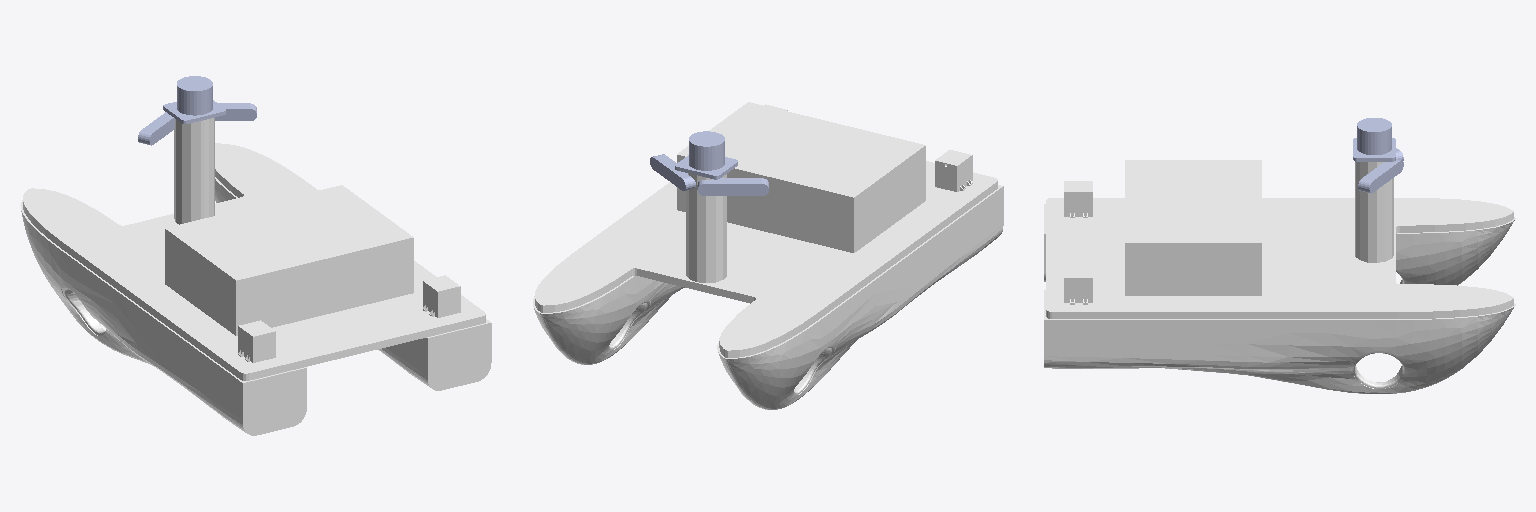
URDF robot description (blacksail_description):
<?xml version="1.0" encoding="utf-8"?>
<!-- This URDF was automatically created by SolidWorks to URDF Exporter! Originally created by [author] ([email redacted]) 
     Commit Version: 1.6.0-1-g15f4949  Build Version: 1.6.7594.29634
     For more information, please see http://wiki.ros.org/sw_urdf_exporter -->
<robot
  name="blacksail_description">
  <link
    name="base_link">
    <inertial>
      <origin
        xyz="2.8139755276237E-08 0.144789959188267 -0.0127097258478716"
        rpy="0 0 0" />
      <mass
        value="50.9279780998108" />
      <inertia
        ixx="2.7911751248795"
        ixy="5.19369002268616E-06"
        ixz="3.20055016815703E-05"
        iyy="3.53852818407439"
        iyz="0.0466571582315679"
        izz="0.989293022946694" />
    </inertial>
    <visual>
      <origin
        xyz="0 0 0"
        rpy="0 0 0" />
      <geometry>
        <mesh
          filename="package://blacksail_description/meshes/base_link.STL" />
      </geometry>
      <material
        name="">
        <color
          rgba="1 1 1 1" />
      </material>
    </visual>
    <collision>
      <origin
        xyz="0 0 0"
        rpy="0 0 0" />
      <geometry>
        <mesh
          filename="package://blacksail_description/meshes/base_link.STL" />
      </geometry>
    </collision>
  </link>
  <link
    name="left_cam">
    <inertial>
      <origin
        xyz="-5.55111512312578E-17 0.0165 -5.55111512312578E-17"
        rpy="0 0 0" />
      <mass
        value="0.182862853798014" />
      <inertia
        ixx="3.25492565937973E-05"
        ixy="-3.33730981218194E-19"
        ixz="-4.78920682195611E-21"
        iyy="0.000448067177719045"
        iyz="7.23086566158669E-22"
        izz="0.000448707529089587" />
    </inertial>
    <visual>
      <origin
        xyz="0 0 0"
        rpy="0 0 0" />
      <geometry>
        <mesh
          filename="package://blacksail_description/meshes/left_cam.STL" />
      </geometry>
      <material
        name="">
        <color
          rgba="0.792156862745098 0.819607843137255 0.933333333333333 1" />
      </material>
    </visual>
    <collision>
      <origin
        xyz="0 0 0"
        rpy="0 0 0" />
      <geometry>
        <mesh
          filename="package://blacksail_description/meshes/left_cam.STL" />
      </geometry>
    </collision>
  </link>
  <joint
    name="hull_left_cam"
    type="revolute">
    <origin
      xyz="-0.0757772228311384 0.392999999994536 0.398600696990968"
      rpy="-3.14159265358979 0 -2.61799387799149" />
    <parent
      link="base_link" />
    <child
      link="left_cam" />
    <axis
      xyz="0 1 0" />
    <limit
      lower="-1.57"
      upper="1.57"
      effort="0"
      velocity="0" />
  </joint>
  <link
    name="right_cam">
    <inertial>
      <origin
        xyz="5.55111512312578E-17 0.0164999999999999 0"
        rpy="0 0 0" />
      <mass
        value="0.182862853798014" />
      <inertia
        ixx="3.25492565937971E-05"
        ixy="1.64324391767334E-19"
        ixz="3.65330026310157E-21"
        iyy="0.000448067177719044"
        iyz="-1.51134911612092E-21"
        izz="0.000448707529089586" />
    </inertial>
    <visual>
      <origin
        xyz="0 0 0"
        rpy="0 0 0" />
      <geometry>
        <mesh
          filename="package://blacksail_description/meshes/right_cam.STL" />
      </geometry>
      <material
        name="">
        <color
          rgba="0.792156862745098 0.819607843137255 0.933333333333333 1" />
      </material>
    </visual>
    <collision>
      <origin
        xyz="0 0 0"
        rpy="0 0 0" />
      <geometry>
        <mesh
          filename="package://blacksail_description/meshes/right_cam.STL" />
      </geometry>
    </collision>
  </link>
  <joint
    name="hull_right_cam"
    type="fixed">
    <origin
      xyz="0.0757772228311382 0.392999999994536 0.398600696990968"
      rpy="0 0 -0.5235987755983" />
    <parent
      link="base_link" />
    <child
      link="right_cam" />
    <axis
      xyz="0 0 0" />
  </joint>
  <link
    name="left_eng">
    <inertial>
      <origin
        xyz="-6.82063415196055E-05 0.000560330151309546 0.00397598353706508"
        rpy="0 0 0" />
      <mass
        value="0.19484238791606" />
      <inertia
        ixx="0.00013116757946852"
        ixy="8.25302298097931E-08"
        ixz="-1.49413806603009E-07"
        iyy="0.000127130799863772"
        iyz="-1.46121941515838E-07"
        izz="0.000181252770882204" />
    </inertial>
    <visual>
      <origin
        xyz="0 0 0"
        rpy="0 0 0" />
      <geometry>
        <mesh
          filename="package://blacksail_description/meshes/left_eng.STL" />
      </geometry>
      <material
        name="">
        <color
          rgba="0.792156862745098 0.819607843137255 0.933333333333333 1" />
      </material>
    </visual>
    <collision>
      <origin
        xyz="0 0 0"
        rpy="0 0 0" />
      <geometry>
        <mesh
          filename="package://blacksail_description/meshes/left_eng.STL" />
      </geometry>
    </collision>
  </link>
  <joint
    name="hull_left_eng"
    type="revolute">
    <origin
      xyz="-0.25827 -0.37496 -0.1222"
      rpy="1.5708 0 0.33498" />
    <parent
      link="base_link" />
    <child
      link="left_eng" />
    <axis
      xyz="0 1 0" />
    <limit
      lower="-1.57"
      upper="1.57"
      effort="0"
      velocity="0" />
  </joint>
  <link
    name="right_eng">
    <inertial>
      <origin
        xyz="-6.81701581830008E-05 0.00055997793931932 0.00397716963707073"
        rpy="0 0 0" />
      <mass
        value="0.194831379335681" />
      <inertia
        ixx="0.00013116295290192"
        ixy="8.27753416032872E-08"
        ixz="-1.49686506620084E-07"
        iyy="0.000127131091026345"
        iyz="-1.46963833733725E-07"
        izz="0.000181251334069354" />
    </inertial>
    <visual>
      <origin
        xyz="0 0 0"
        rpy="0 0 0" />
      <geometry>
        <mesh
          filename="package://blacksail_description/meshes/right_eng.STL" />
      </geometry>
      <material
        name="">
        <color
          rgba="0.792156862745098 0.819607843137255 0.933333333333333 1" />
      </material>
    </visual>
    <collision>
      <origin
        xyz="0 0 0"
        rpy="0 0 0" />
      <geometry>
        <mesh
          filename="package://blacksail_description/meshes/right_eng.STL" />
      </geometry>
    </collision>
  </link>
  <joint
    name="hull_right_eng"
    type="revolute">
    <origin
      xyz="0.25827 -0.37496 -0.1222"
      rpy="1.5708 0 -0.33498" />
    <parent
      link="base_link" />
    <child
      link="right_eng" />
    <axis
      xyz="0 1 0" />
    <limit
      lower="-1.57"
      upper="1.57"
      effort="0"
      velocity="0" />
  </joint>
  <link
    name="lidar">
    <inertial>
      <origin
        xyz="-5.54618992302504E-17 0.0332155209723482 5.55111512312578E-17"
        rpy="0 0 0" />
      <mass
        value="0.537435618051217" />
      <inertia
        ixx="0.000612329601452891"
        ixy="-9.21239595365334E-21"
        ixz="-1.24077091882954E-20"
        iyy="0.000696774634775495"
        iyz="-2.86720185824769E-22"
        izz="0.000652989597944181" />
    </inertial>
    <visual>
      <origin
        xyz="0 0 0"
        rpy="0 0 0" />
      <geometry>
        <mesh
          filename="package://blacksail_description/meshes/lidar.STL" />
      </geometry>
      <material
        name="">
        <color
          rgba="0.792156862745098 0.819607843137255 0.933333333333333 1" />
      </material>
    </visual>
    <collision>
      <origin
        xyz="0 0 0"
        rpy="0 0 0" />
      <geometry>
        <mesh
          filename="package://blacksail_description/meshes/lidar.STL" />
      </geometry>
    </collision>
  </link>
  <joint
    name="hull_lidar"
    type="fixed">
    <origin
      xyz="0 0.390999999994537 0.427100696990968"
      rpy="1.5707963267949 0 0" />
    <parent
      link="base_link" />
    <child
      link="lidar" />
    <axis
      xyz="0 0 0" />
  </joint>
</robot>

--- Facts derived from the render (not from the file) ---
3 views of the same robot in one strip: view 1: azimuth 30°, elevation 25°; view 2: azimuth 150°, elevation 25°; view 3: azimuth 270°, elevation 25° (orthographic).
Model blacksail_description with 6 links and 5 joints (3 revolute, 2 fixed), rooted at base_link, posed all joints at 0.
Visible links, largest first — view 1: base_link, lidar, left_cam, right_cam; view 2: base_link, lidar, left_cam, right_cam; view 3: base_link, lidar, right_cam.
Link boxes in pixels (x1=…): base_link: x1=20, y1=118, x2=491, y2=435; lidar: x1=163, y1=76, x2=225, y2=123; left_cam: x1=138, y1=112, x2=174, y2=145; right_cam: x1=215, y1=103, x2=256, y2=120; base_link: x1=533, y1=102, x2=1003, y2=409; lidar: x1=675, y1=131, x2=737, y2=179; left_cam: x1=697, y1=178, x2=768, y2=195; right_cam: x1=650, y1=154, x2=695, y2=190; base_link: x1=1044, y1=160, x2=1515, y2=393; lidar: x1=1353, y1=118, x2=1395, y2=161; right_cam: x1=1358, y1=159, x2=1403, y2=193.
Bounding box of the posed robot: 0.7 × 1.2 × 0.6348 m (x, y, z).
Meshes: 6 distinct files referenced, 4 mesh visuals loaded (4 binary STL); not drawn: 2 (reference not matched to a file when rendering).
